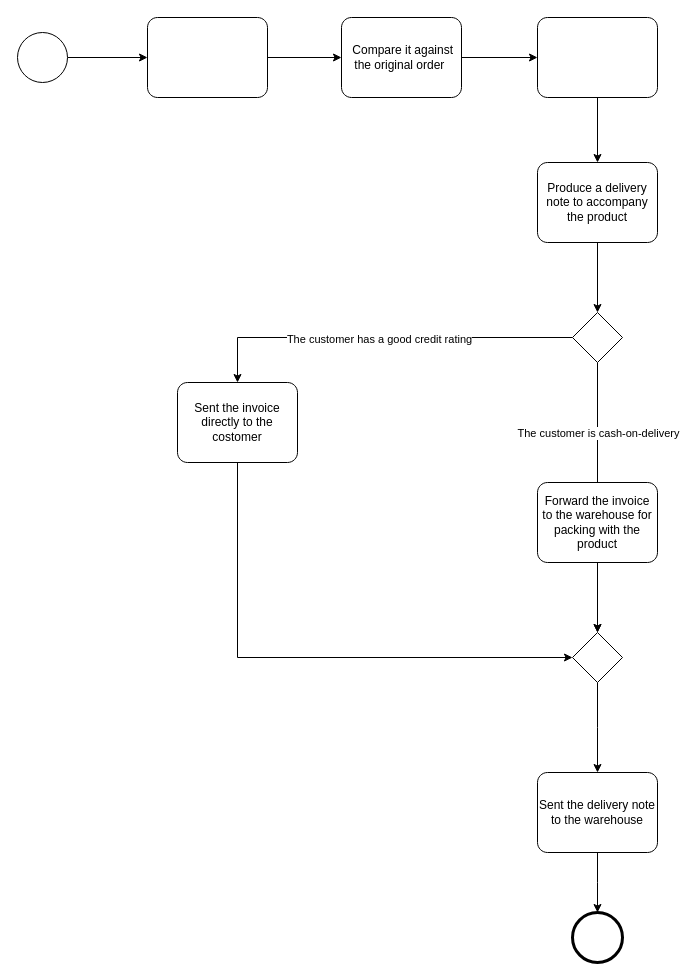
Image size: 696x980. Some labels were removed from this diagram. The centre of each missing label's shape, as x and y in pixels:
"Produce an invoice for the customer" belongs at (597,57).
"Receive a completed work order" belongs at (207,57).
